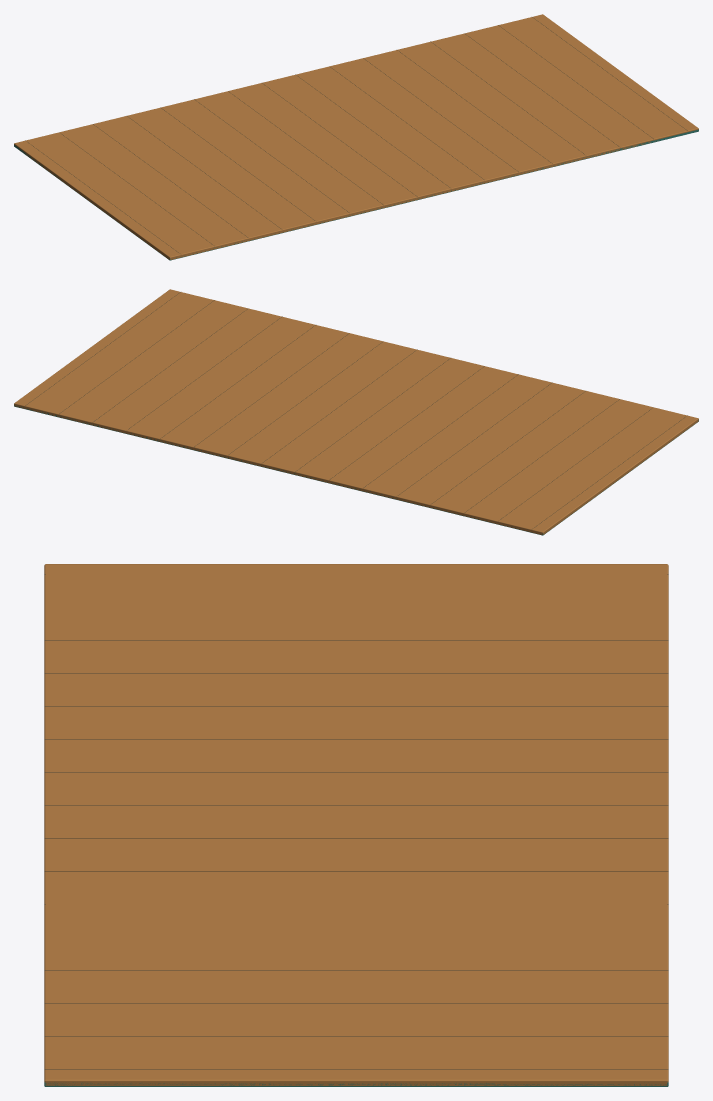
File: drawer-one-light.glb
The picture shows the model from 3 angles, top to bottom: view 1: azimuth 30°, elevation 25°; view 2: azimuth 150°, elevation 25°; view 3: azimuth 270°, elevation 25°; orthographic projection. The views are drawn at different scales.
Visible parts, largest first — view 1: wood, dark, teal; view 2: wood, dark, teal; view 3: wood, dark, teal.
Part boxes in pixels (left/top/right/bottom): wood: left=14, top=14, right=698, bottom=259; dark: left=25, top=17, right=687, bottom=252; teal: left=14, top=129, right=698, bottom=260; wood: left=14, top=289, right=698, bottom=534; dark: left=25, top=292, right=687, bottom=527; teal: left=14, top=404, right=698, bottom=535; wood: left=44, top=564, right=668, bottom=1085; dark: left=44, top=574, right=668, bottom=1069; teal: left=44, top=1082, right=668, bottom=1086.
Size of the model in its own units: 47 by 0.3025 by 24.
